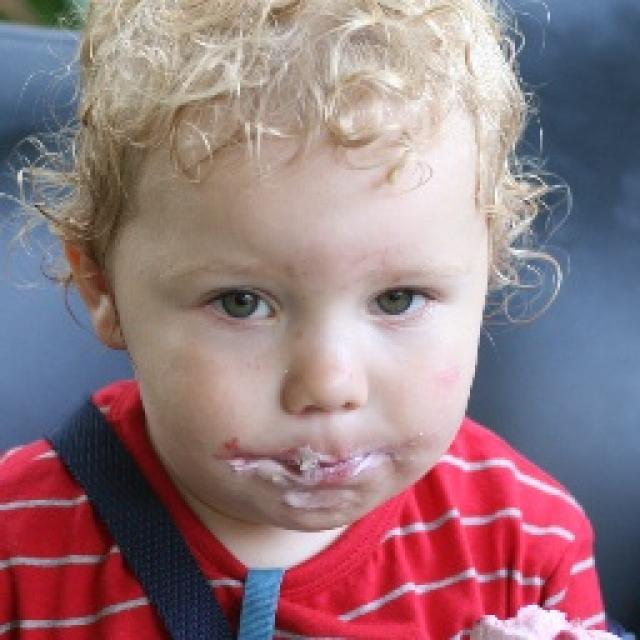earlobe: (92, 297, 129, 352)
eye: (196, 286, 281, 324), (368, 287, 436, 320)
nose: (286, 400, 363, 438)
wholeear: (62, 231, 129, 352)
